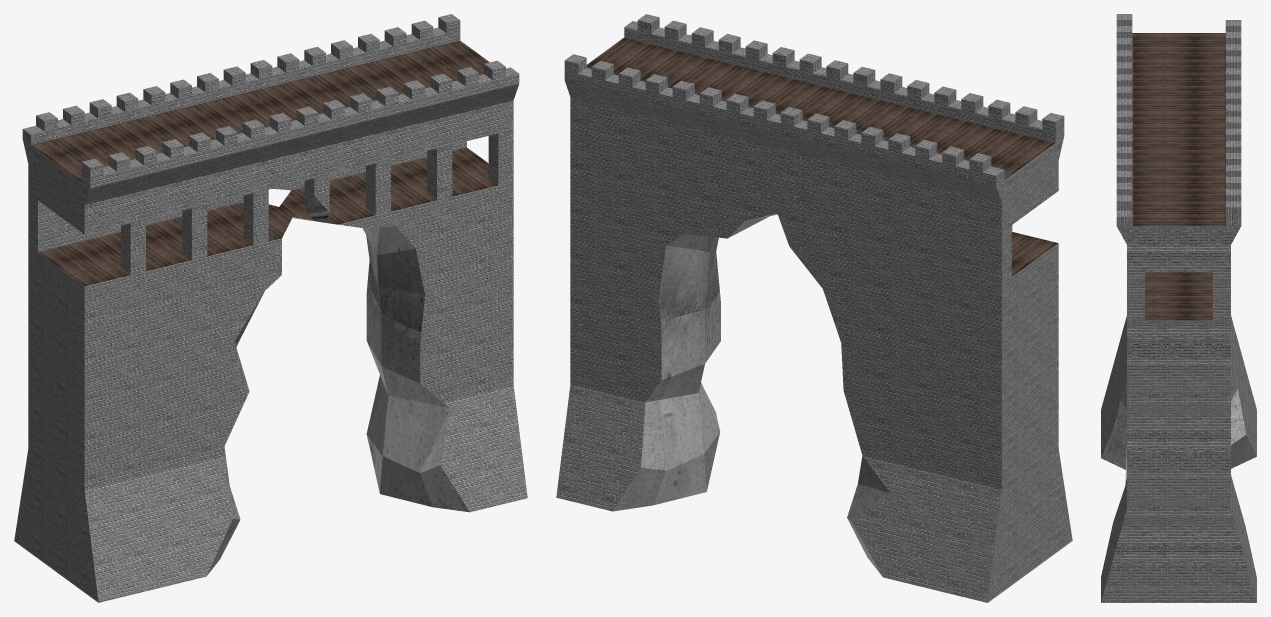
Rendered from TallWallBreach.fbx.
3 renders of one model, left to right at view 1: azimuth 30°, elevation 25°; view 2: azimuth 150°, elevation 25°; view 3: azimuth 270°, elevation 25°, orthographic. The views are drawn at different scales.
Visible parts, largest first — view 1: TallWallBreach; view 2: TallWallBreach; view 3: TallWallBreach.
Part boxes in pixels (<box>): TallWallBreach: <box>14,14,527,602</box>; TallWallBreach: <box>556,14,1072,602</box>; TallWallBreach: <box>1101,14,1256,602</box>.
Size of the model in its own units: 2200 by 2100 by 750.
